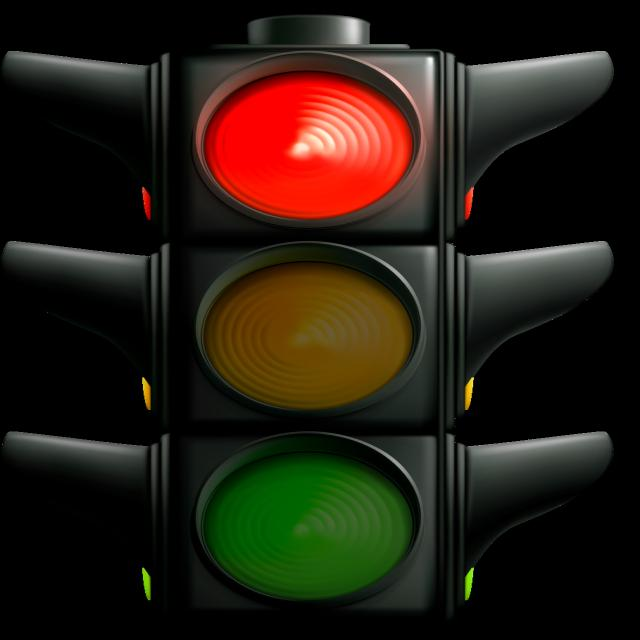red: (179, 50, 429, 230)
